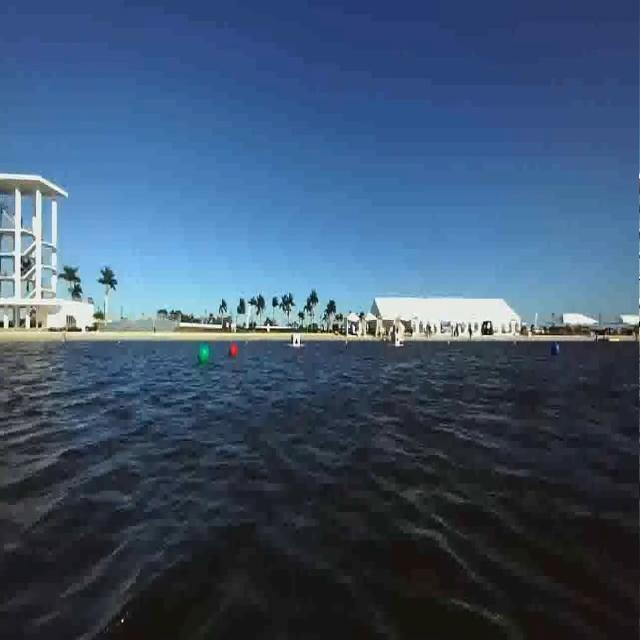green-buoy: (199, 343, 211, 364)
red-buoy: (231, 343, 239, 358)
